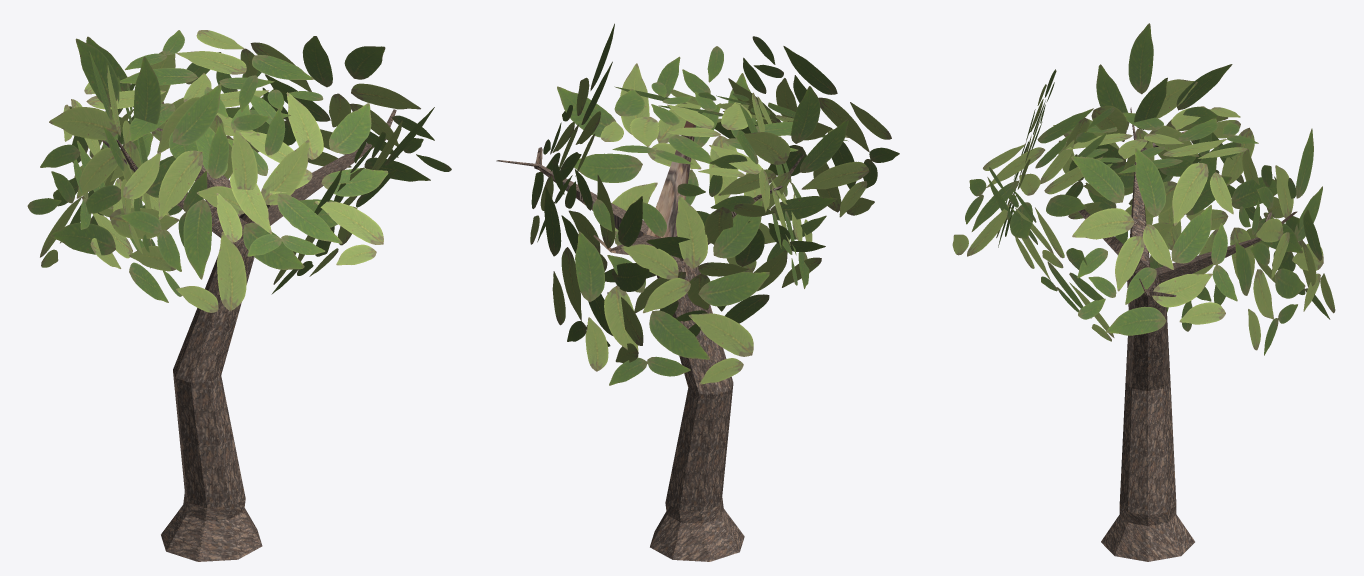
The model's file is Tree_01.fbx.
The picture shows the model from 3 angles, left to right: view 1: azimuth 30°, elevation 25°; view 2: azimuth 150°, elevation 25°; view 3: azimuth 270°, elevation 25°; orthographic projection. The views are drawn at different scales.
Parts seen in each view (by area): view 1: leaf, tree; view 2: leaf, tree; view 3: leaf, tree.
Part boxes in pixels (x1=…): leaf: x1=27, y1=30, x2=451, y2=312; tree: x1=101, y1=101, x2=396, y2=561; leaf: x1=530, y1=23, x2=899, y2=385; tree: x1=496, y1=120, x2=803, y2=561; leaf: x1=952, y1=23, x2=1335, y2=355; tree: x1=1078, y1=107, x2=1297, y2=561.
Bounding box in the file's own units: 8.46 × 11.04 × 8.68.
